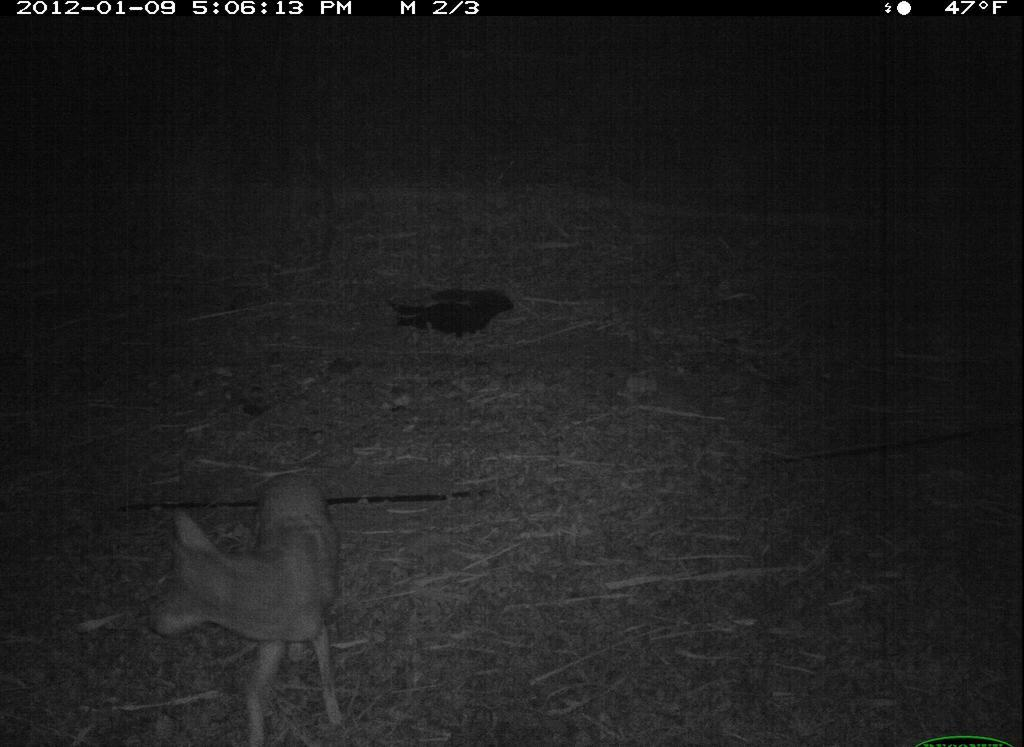coyote: (127, 459, 390, 747)
